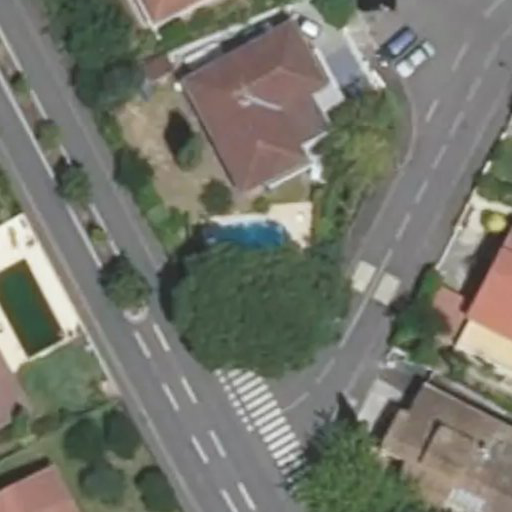pool: (221, 225, 291, 258)
